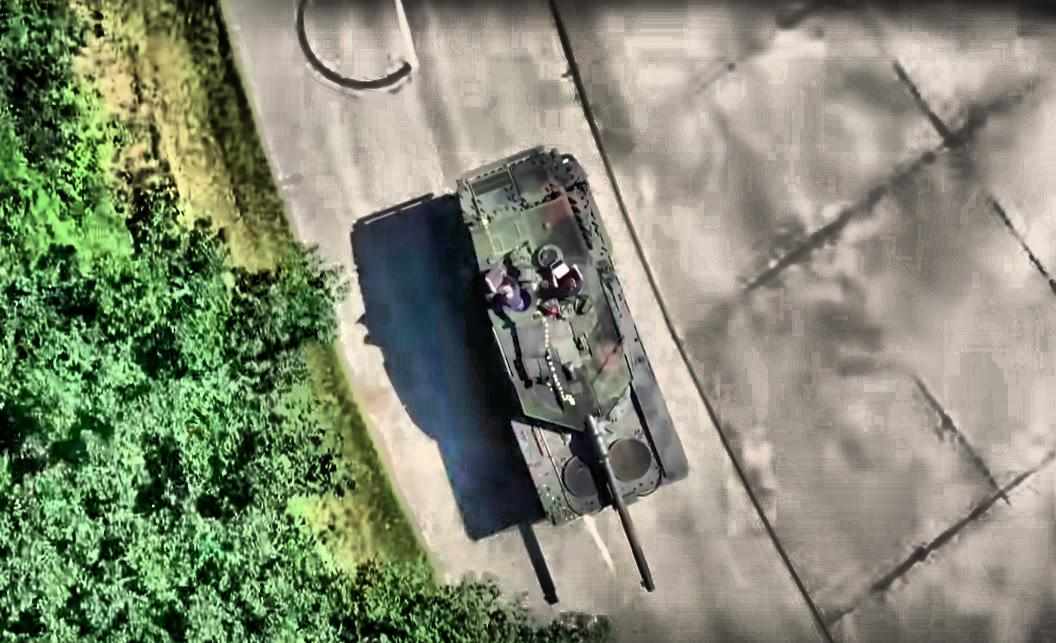military-vehicle: (455, 148, 690, 587)
